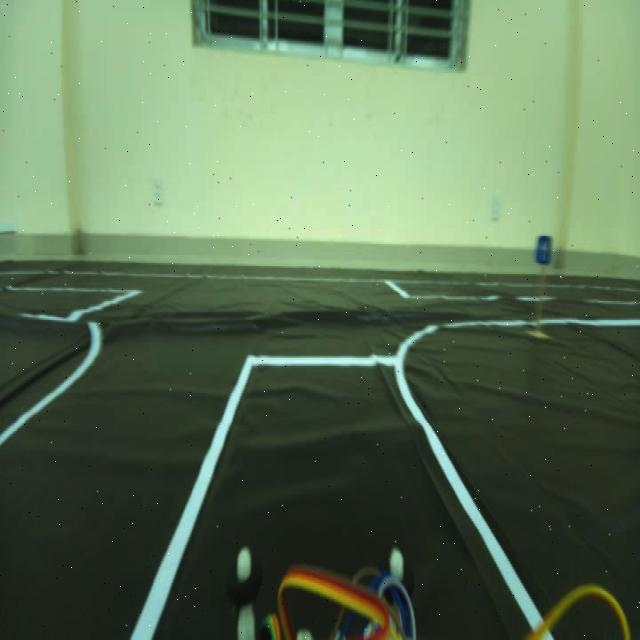onewayroad: (530, 227, 552, 266)
